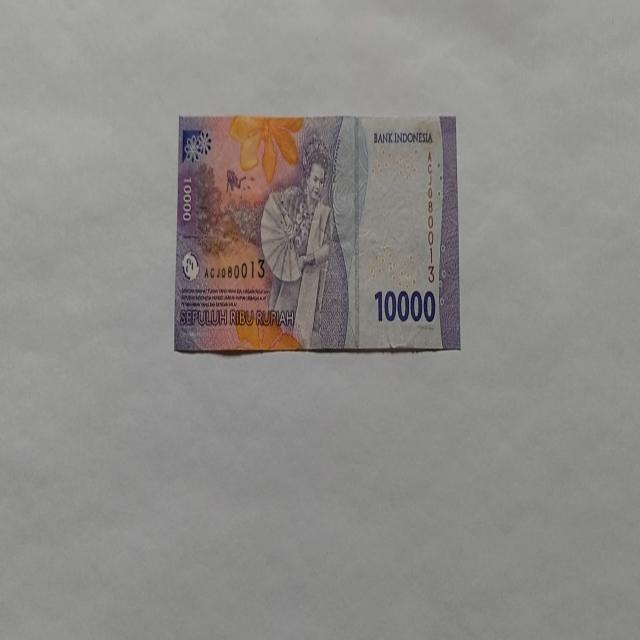sepuluh ribu rupiah: (173, 112, 460, 355), (373, 286, 437, 326)
